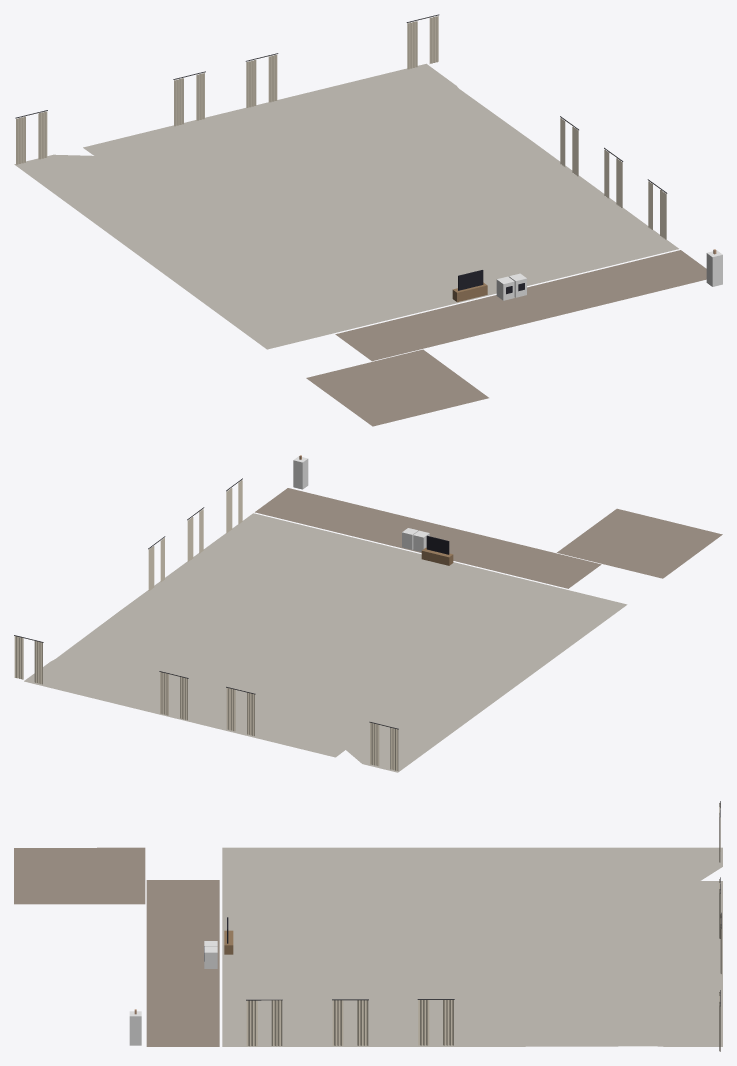
File: fine-s0.glb
3 views of the same model, one above another, from view 1: azimuth 30°, elevation 25°; view 2: azimuth 150°, elevation 25°; view 3: azimuth 270°, elevation 25° (orthographic). The views are drawn at different scales.
Visible parts, largest first — view 1: soft-s0, tv-console.000; view 2: soft-s0, tv-console.000; view 3: soft-s0, water-heater.000.
Boxes of the visible parts, <box> form: soft-s0: <box>14,14,706,426</box>; tv-console.000: <box>452,270,487,302</box>; soft-s0: <box>14,478,722,772</box>; tv-console.000: <box>421,535,453,565</box>; soft-s0: <box>14,801,722,1051</box>; water-heater.000: <box>129,1009,141,1045</box>.
Bounding box in the file's own units: 22.32 × 2.4 × 32.68.
